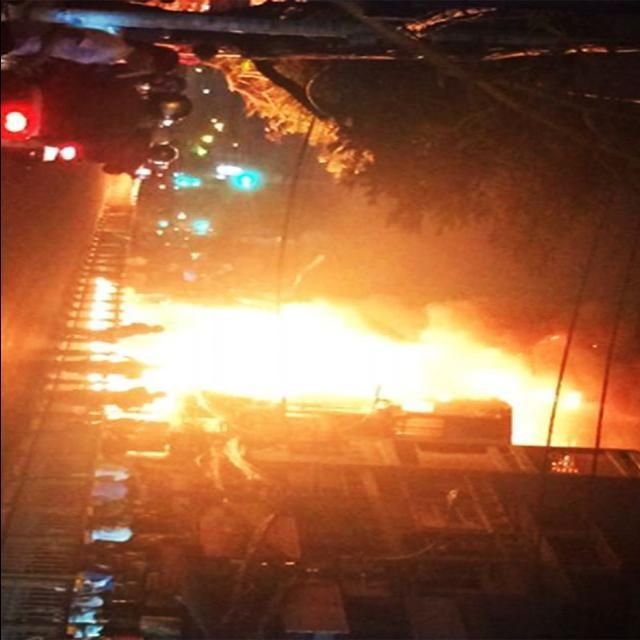Fire: (97, 280, 546, 460)
